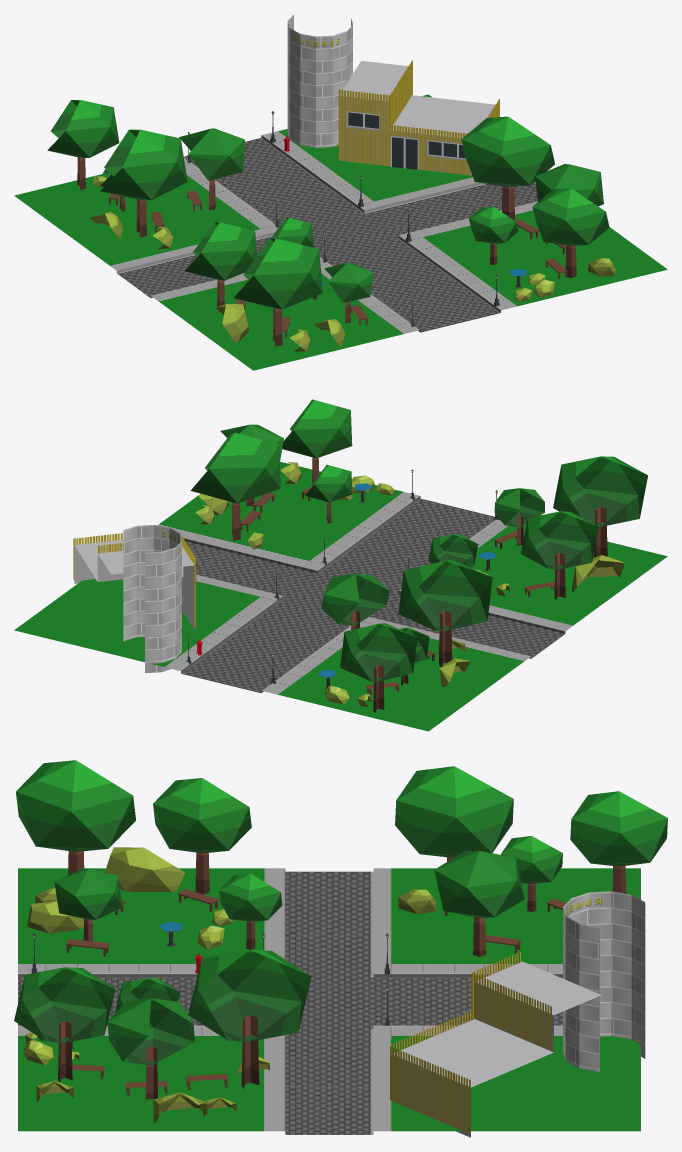
File: sportsbase.glb
3 views of the same model, one above another, from view 1: azimuth 30°, elevation 25°; view 2: azimuth 150°, elevation 25°; view 3: azimuth 270°, elevation 25° (orthographic). The views are drawn at different scales.
Visible parts, largest first — view 1: Road, Runbase, Tree.006, Tree.010, Tree.001, Tree.007, Tree.011, Tree.004, Tree.008, Tree.002, Tree, Tree.005 (+2 smaller); view 2: Road, Runbase, Tree.010, Tree.001, Tree.006, Tree.011, Tree.004, Tree.007, Tree.008, Tree, Tree.005, Tree.003 (+3 smaller); view 3: Road, Runbase, Tree.006, Tree.001, Tree.010, Tree.007, Tree.004, Tree.011, Tree.008, Tree.002, Tree, Shrubs.004 (+7 smaller).
Part boxes in pixels (<box>): Road: <box>14,94,667,370</box>; Runbase: <box>287,14,499,175</box>; Tree.006: <box>461,116,554,220</box>; Tree.010: <box>100,129,187,237</box>; Tree.001: <box>233,238,322,346</box>; Tree.007: <box>532,188,609,278</box>; Tree.011: <box>47,100,119,189</box>; Tree.004: <box>185,222,257,312</box>; Tree.008: <box>179,128,244,209</box>; Tree.002: <box>535,164,603,206</box>; Tree: <box>324,263,373,322</box>; Tree.005: <box>469,206,518,264</box>; Road: <box>14,461,667,731</box>; Runbase: <box>73,525,196,672</box>; Tree.010: <box>398,560,492,666</box>; Tree.001: <box>553,456,647,557</box>; Tree.006: <box>190,432,280,540</box>; Tree.011: <box>340,623,417,712</box>; Tree.004: <box>521,511,598,600</box>; Tree.007: <box>282,399,352,485</box>; Tree.008: <box>321,574,389,629</box>; Tree: <box>494,488,544,545</box>; Tree.005: <box>305,464,352,523</box>; Tree.003: <box>428,534,478,567</box>; Road: <box>18,868,640,1134</box>; Runbase: <box>390,891,645,1137</box>; Tree.006: <box>188,950,311,1088</box>; Tree.001: <box>16,760,135,874</box>; Tree.010: <box>395,766,513,861</box>; Tree.007: <box>14,967,115,1082</box>; Tree.004: <box>153,778,251,894</box>; Tree.011: <box>570,791,667,893</box>; Tree.008: <box>434,850,524,956</box>; Tree.002: <box>107,998,194,1102</box>; Tree: <box>54,869,122,941</box>; Shrubs.004: <box>105,847,185,891</box>.
Bounding box in the file's own units: 40.57 × 11.11 × 42.01.
Materials: 3 (3 with a texture image).
